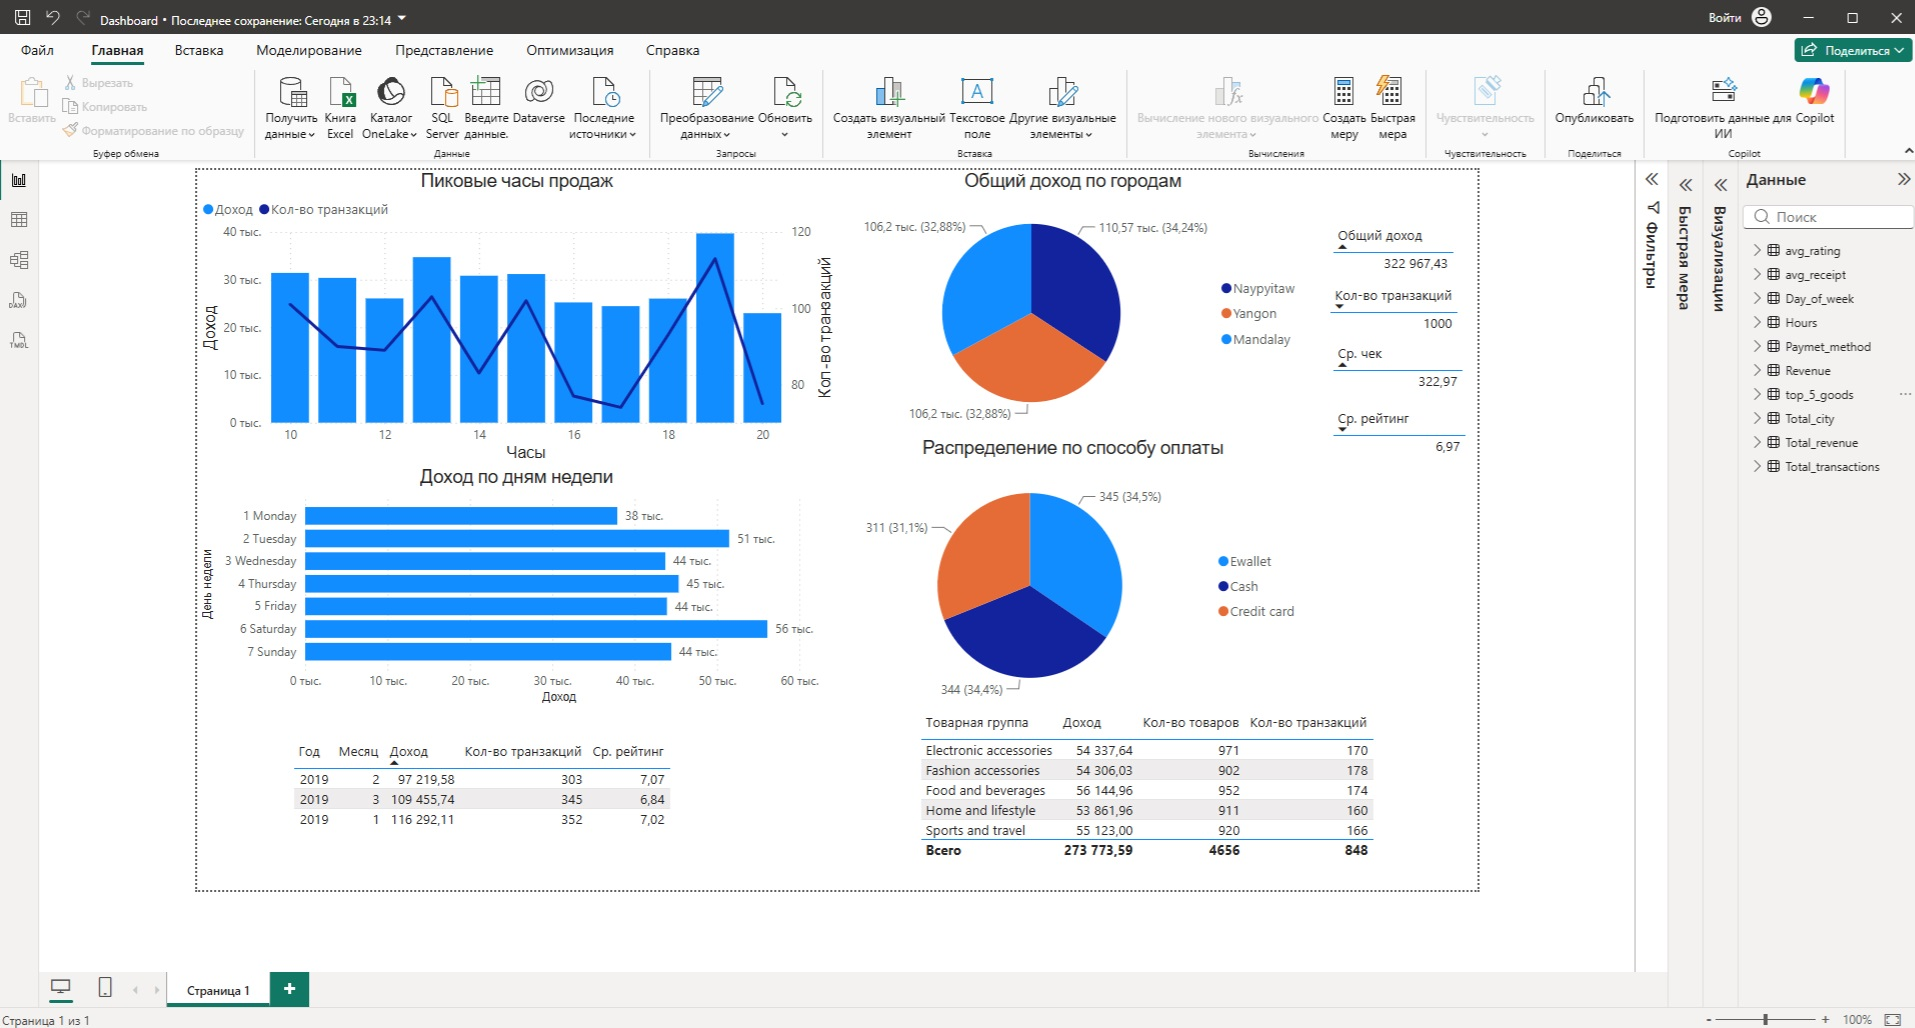

This screenshot's page, from the dashboard's own definition file:
{"tool":"powerbi","page":{"name":"Страница 1","canvas":[1280,720],"ordinal":0},"visuals":[{"type":"tableEx","fields":{"Values":["Запрос1.year","Запрос1.month","Запрос1.monthly_revenue","Запрос1.transactions_count","Запрос1.avg_rating"]},"box":[91.3,566,413.7,112.8],"z":0},{"type":"pieChart","title":"Общий доход по городам","fields":{"Category":["Total_city.city"],"Y":["Sum(Total_city.revenue)"]},"box":[640,0,471.7,267.5],"z":1000},{"type":"pieChart","title":"Распределение по способу оплаты","fields":{"Category":["Запрос1.payment_method"],"Y":["Sum(Запрос1.transaction_count)"]},"box":[640,267.5,471.7,277.2],"z":2000},{"type":"lineClusteredColumnComboChart","title":"Пиковые часы продаж","fields":{"Category":["Запрос2.hour"],"Y":["Sum(Запрос2.revenue)"],"Y2":["Sum(Запрос2.transactions)"]},"box":[0,0,640,295.7],"z":3000},{"type":"clusteredBarChart","title":"Доход по дням недели","fields":{"Category":["Day_of_week.day_of_week"],"Y":["Sum(Day_of_week.daily_revenue)"]},"box":[0,295.7,640,242.2],"z":3001},{"type":"tableEx","fields":{"Values":["Sum(Total_revenue.total_revenue)"]},"box":[1130.1,50.3,143.3,84.2],"z":3002},{"type":"tableEx","fields":{"Values":["Sum(Total_transactions.total_transactions)"]},"box":[1126.6,110.3,143.3,68.1],"z":3003},{"type":"tableEx","fields":{"Values":["Sum(avg_receipts.avg_basket_value)"]},"box":[1130.1,167.6,149.6,69],"z":3004},{"type":"tableEx","fields":{"Values":["Sum(avg_rating.avg_rating)"]},"box":[1130.1,232.9,149.6,62.7],"z":3005},{"type":"tableEx","fields":{"Values":["top_5_goods.product_line","Sum(top_5_goods.revenue)","Sum(top_5_goods.total_units_sold)","Sum(top_5_goods.transactions_count)"]},"box":[718.2,537.3,480,169.3],"z":3006}]}

Visuals, with their boxes on the page's 1280x720 design canvas (x1, y1, x2, y2). These are canvas units, not pixel positions in the 1915x1028 screenshot, which may show the page scaled, cropped or inside an application window:
tableEx - Запрос1.year x Запрос1.month: {"left": 91, "top": 566, "right": 505, "bottom": 679}
"Общий доход по городам" pieChart: {"left": 640, "top": 0, "right": 1112, "bottom": 268}
"Распределение по способу оплаты" pieChart: {"left": 640, "top": 268, "right": 1112, "bottom": 545}
"Пиковые часы продаж" lineClusteredColumnComboChart: {"left": 0, "top": 0, "right": 640, "bottom": 296}
"Доход по дням недели" clusteredBarChart: {"left": 0, "top": 296, "right": 640, "bottom": 538}
tableEx - Sum(Total_revenue.total_revenue): {"left": 1130, "top": 50, "right": 1273, "bottom": 134}
tableEx - Sum(Total_transactions.total_transactions): {"left": 1127, "top": 110, "right": 1270, "bottom": 178}
tableEx - Sum(avg_receipts.avg_basket_value): {"left": 1130, "top": 168, "right": 1280, "bottom": 237}
tableEx - Sum(avg_rating.avg_rating): {"left": 1130, "top": 233, "right": 1280, "bottom": 296}
tableEx - top_5_goods.product_line x Sum(top_5_goods.revenue): {"left": 718, "top": 537, "right": 1198, "bottom": 707}
